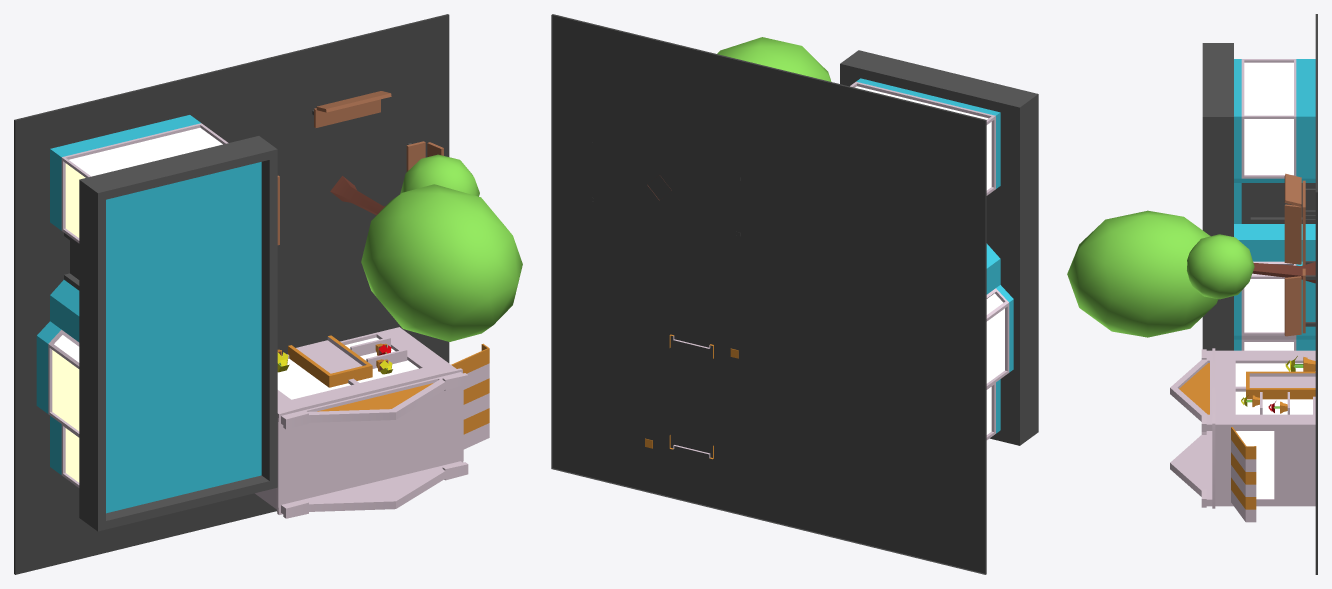
File: FloristAndBakery.fbx
The picture shows the model from 3 angles, left to right: view 1: azimuth 30°, elevation 25°; view 2: azimuth 150°, elevation 25°; view 3: azimuth 270°, elevation 25°; orthographic projection. The views are drawn at different scales.
Visible parts, largest first — view 1: FloristAndBakery; view 2: FloristAndBakery; view 3: FloristAndBakery.
Boxes of the visible parts, left/top/right/bottom form: FloristAndBakery: left=14, top=14, right=522, bottom=574; FloristAndBakery: left=551, top=14, right=1038, bottom=574; FloristAndBakery: left=1067, top=14, right=1317, bottom=574.
Bounding box in the file's own units: 200 × 200 × 119.
